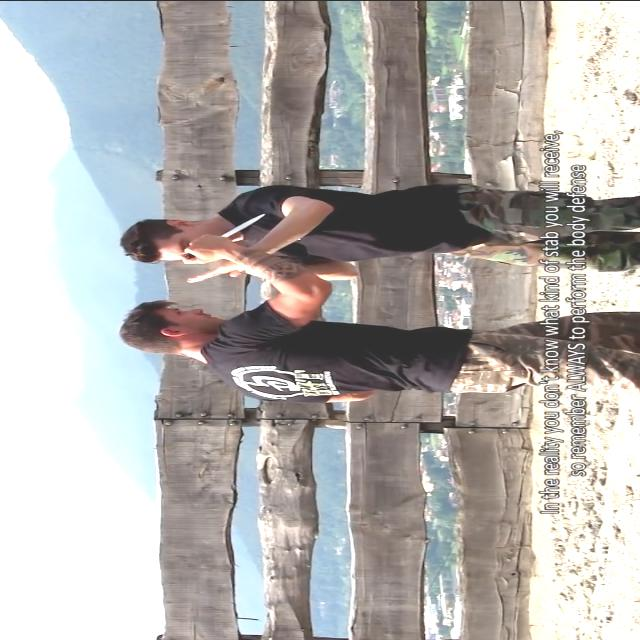knife: (176, 212, 268, 264)
